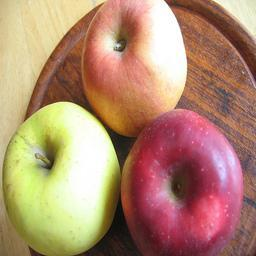apple: (3, 100, 122, 254), (120, 107, 242, 254), (81, 1, 187, 138)
